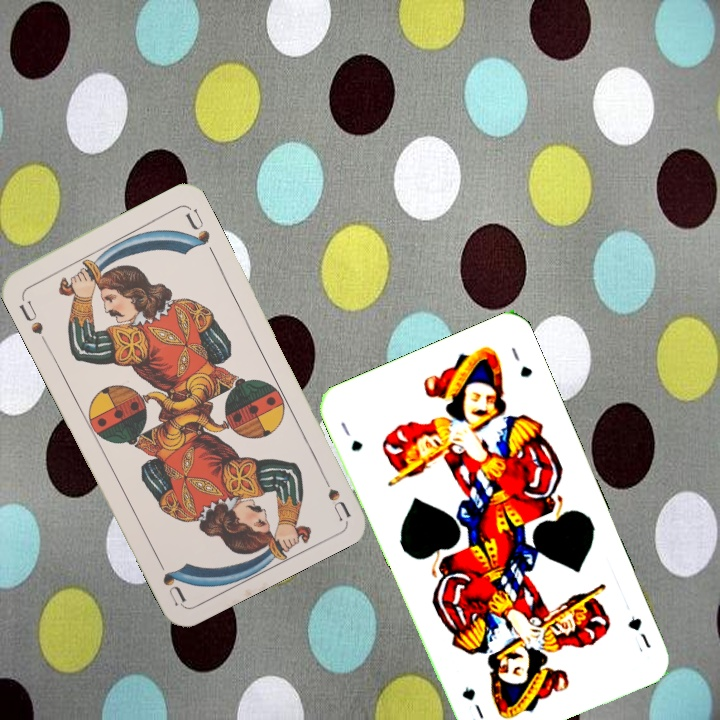GU: (624, 612, 654, 655), (336, 418, 365, 454)
SU: (315, 465, 353, 522), (15, 292, 50, 347)
